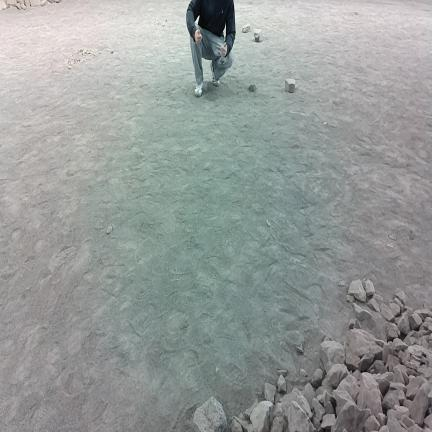Rock: (193, 397, 227, 432), (331, 402, 370, 431), (358, 373, 382, 415), (333, 376, 359, 414), (281, 388, 312, 419), (345, 329, 376, 358), (410, 383, 430, 425), (287, 401, 313, 431), (320, 341, 345, 372), (250, 401, 274, 432), (359, 345, 382, 372), (387, 406, 410, 431), (327, 364, 348, 388), (406, 376, 425, 400), (375, 372, 393, 396), (348, 280, 366, 302), (353, 304, 372, 321), (397, 312, 411, 335), (303, 383, 315, 409), (383, 391, 399, 410), (244, 399, 258, 420), (316, 378, 333, 395), (313, 398, 325, 422), (407, 345, 431, 357), (383, 343, 397, 363), (408, 313, 423, 331), (368, 360, 387, 374), (233, 416, 249, 432), (386, 322, 400, 340), (264, 383, 276, 403), (346, 353, 359, 371), (381, 303, 394, 321), (365, 416, 380, 431), (322, 414, 335, 431), (397, 366, 408, 385), (387, 355, 400, 371), (407, 345, 424, 357), (311, 369, 322, 387), (277, 374, 287, 393), (389, 382, 406, 393), (414, 309, 431, 320), (393, 338, 407, 351), (394, 368, 405, 384), (364, 280, 375, 296), (231, 418, 243, 432), (271, 417, 283, 431), (405, 360, 420, 371), (395, 289, 406, 304), (348, 318, 361, 330), (414, 330, 429, 340), (402, 415, 414, 427), (368, 299, 380, 311), (389, 303, 400, 316), (285, 79, 295, 93), (323, 390, 331, 406), (392, 298, 403, 309), (312, 418, 321, 431), (275, 402, 283, 416), (398, 391, 406, 405), (372, 294, 383, 304), (404, 331, 415, 341), (254, 29, 262, 42), (326, 401, 334, 414), (295, 343, 304, 354), (403, 351, 410, 365), (377, 413, 385, 425), (425, 414, 431, 429), (411, 355, 421, 364), (417, 336, 428, 344), (408, 425, 422, 431), (353, 370, 361, 380), (6, 0, 16, 8), (317, 394, 324, 405), (242, 23, 250, 32), (299, 369, 307, 378), (404, 400, 412, 409), (418, 366, 427, 374), (397, 351, 403, 363), (407, 337, 415, 346), (277, 370, 287, 377), (426, 402, 431, 416), (396, 365, 406, 372), (407, 369, 417, 376), (419, 323, 429, 330), (421, 356, 428, 366), (238, 413, 246, 421), (405, 307, 413, 315), (247, 423, 254, 432), (19, 0, 26, 9), (0, 0, 7, 9), (425, 368, 431, 378), (30, 0, 40, 6), (249, 84, 256, 92), (347, 295, 354, 303), (422, 340, 429, 348), (376, 340, 385, 346), (379, 426, 389, 431), (107, 225, 112, 234), (339, 281, 346, 287), (389, 234, 396, 240), (387, 242, 394, 248), (424, 317, 431, 323), (77, 48, 85, 53), (24, 0, 30, 6), (16, 2, 21, 9), (428, 390, 431, 400), (428, 324, 431, 334), (41, 0, 47, 5), (70, 61, 76, 65), (424, 428, 431, 431), (375, 241, 382, 244), (216, 367, 219, 373), (358, 379, 361, 385), (371, 430, 378, 432), (110, 50, 113, 54), (56, 0, 62, 2), (162, 22, 165, 26), (67, 66, 71, 69), (349, 371, 352, 374), (166, 18, 168, 22), (163, 25, 164, 25)
